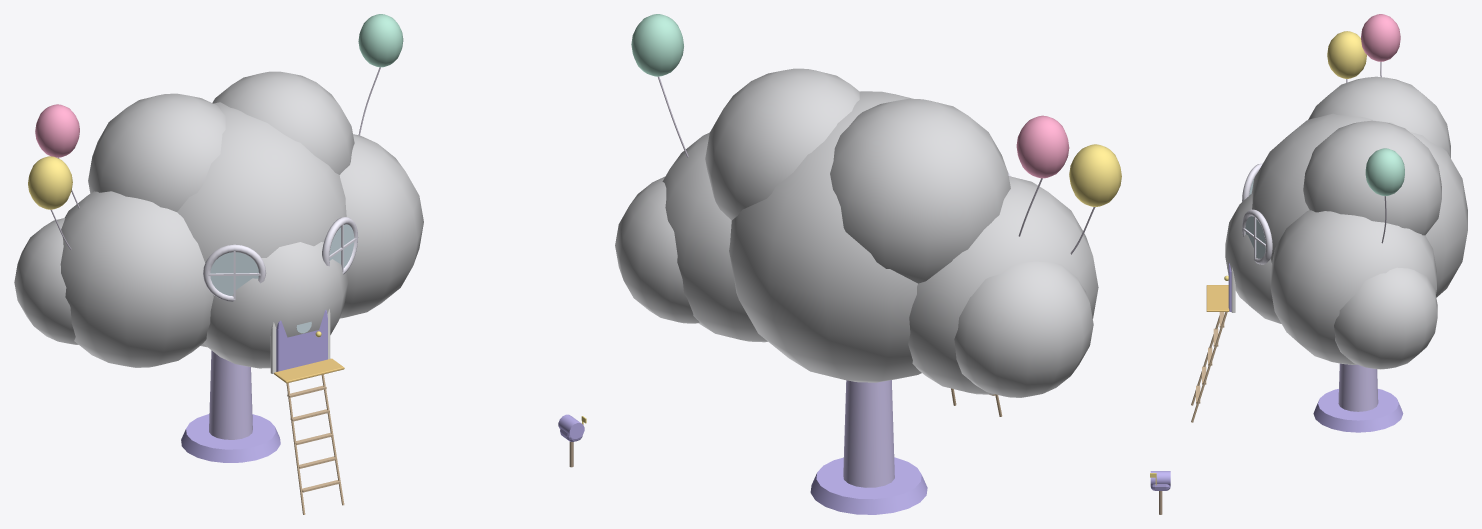
Rendered from building_sky_L06.glb.
3 views of the same model, side by side, from view 1: azimuth 30°, elevation 25°; view 2: azimuth 150°, elevation 25°; view 3: azimuth 270°, elevation 25° (orthographic). The views are drawn at different scales.
Visible parts, largest first — view 1: Body, sky_L6; view 2: Body; view 3: Body, sky_L6.
Boxes of the visible parts, x1=… form: Body: x1=14, y1=14, x2=423, y2=514; sky_L6: x1=558, y1=414, x2=586, y2=467; Body: x1=615, y1=14, x2=1121, y2=514; Body: x1=1191, y1=14, x2=1467, y2=432; sky_L6: x1=1150, y1=471, x2=1170, y2=514.
Size of the model in its own units: 20.52 by 16.51 by 14.14.
